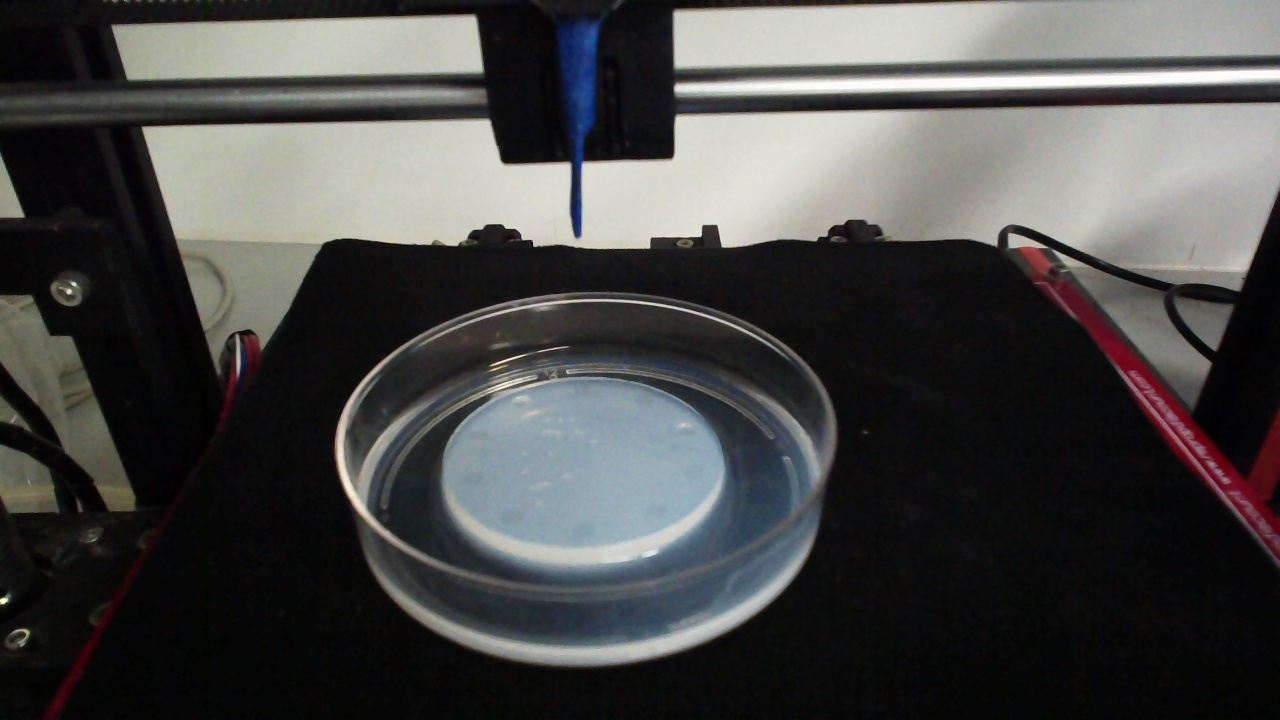groove: (496, 503, 525, 527), (568, 518, 595, 539), (642, 501, 669, 519), (683, 462, 705, 482), (507, 393, 531, 411), (466, 423, 488, 442), (460, 470, 483, 487), (571, 380, 594, 397), (675, 422, 698, 437), (632, 391, 653, 407)
needle: (559, 22, 599, 240)
